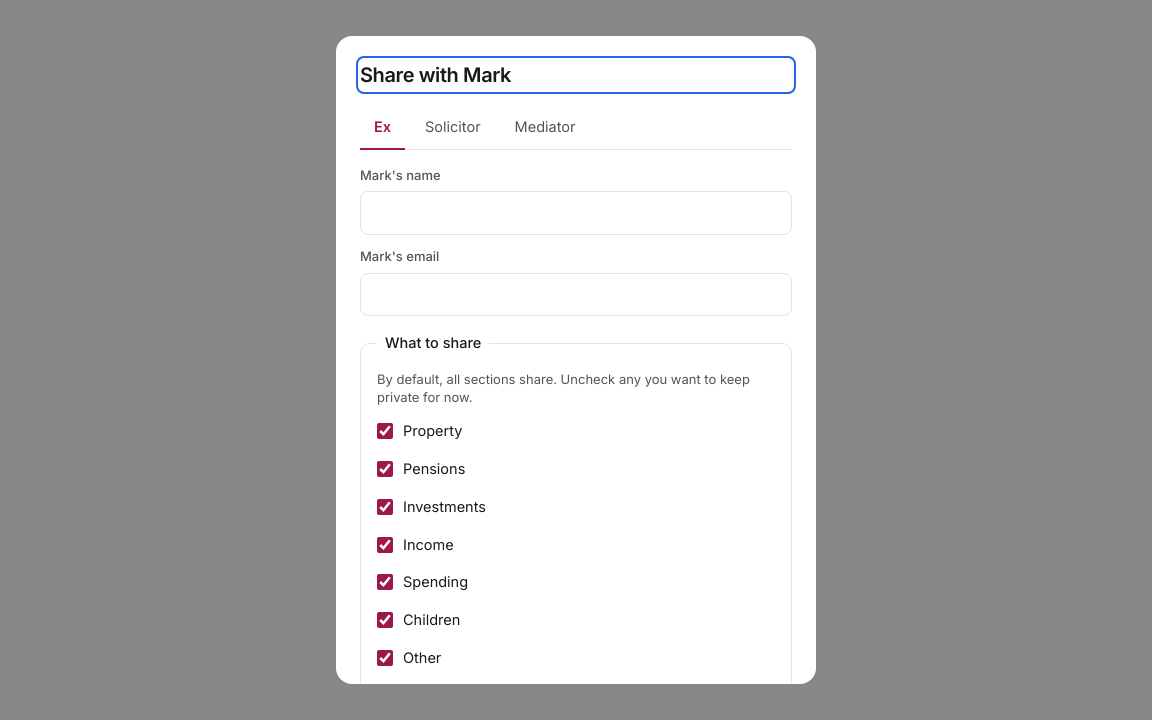
it: ShareModal › submit on Solicitor tab falls back to "Mark" (AC-5)
Click the tab "Solicitor" at (453, 128), box x1=411 y1=106 x2=495 y2=150
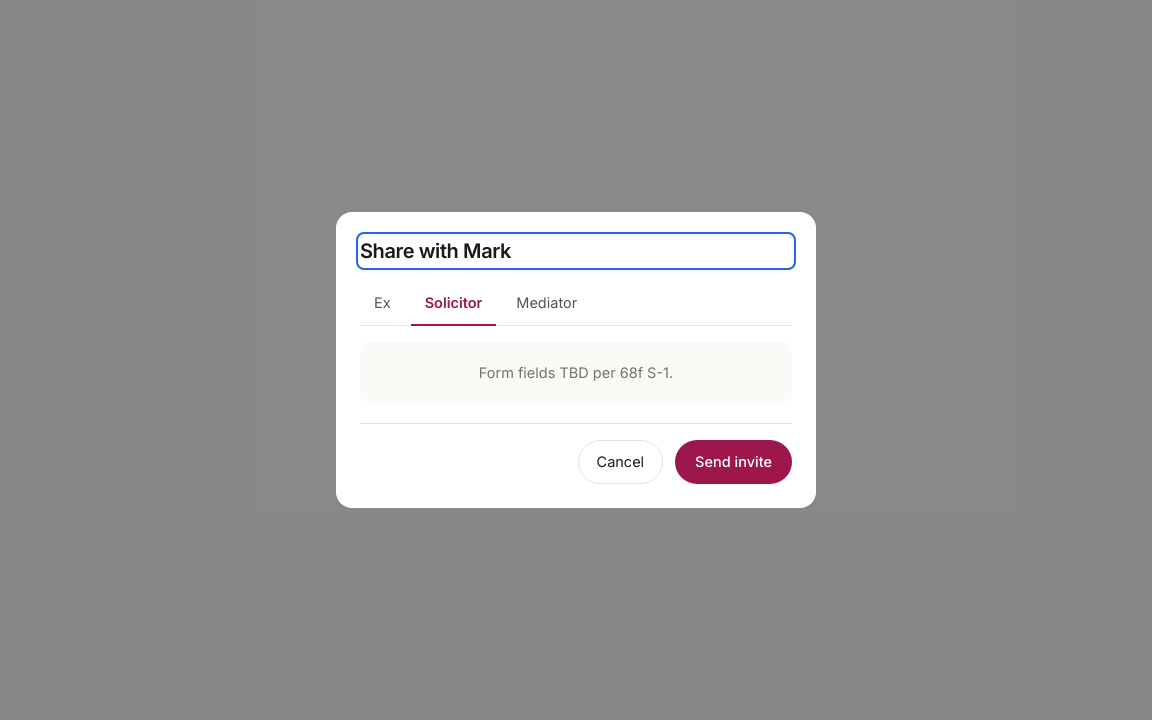
Click the button "Send invite" at (734, 462), box x1=675 y1=440 x2=792 y2=484
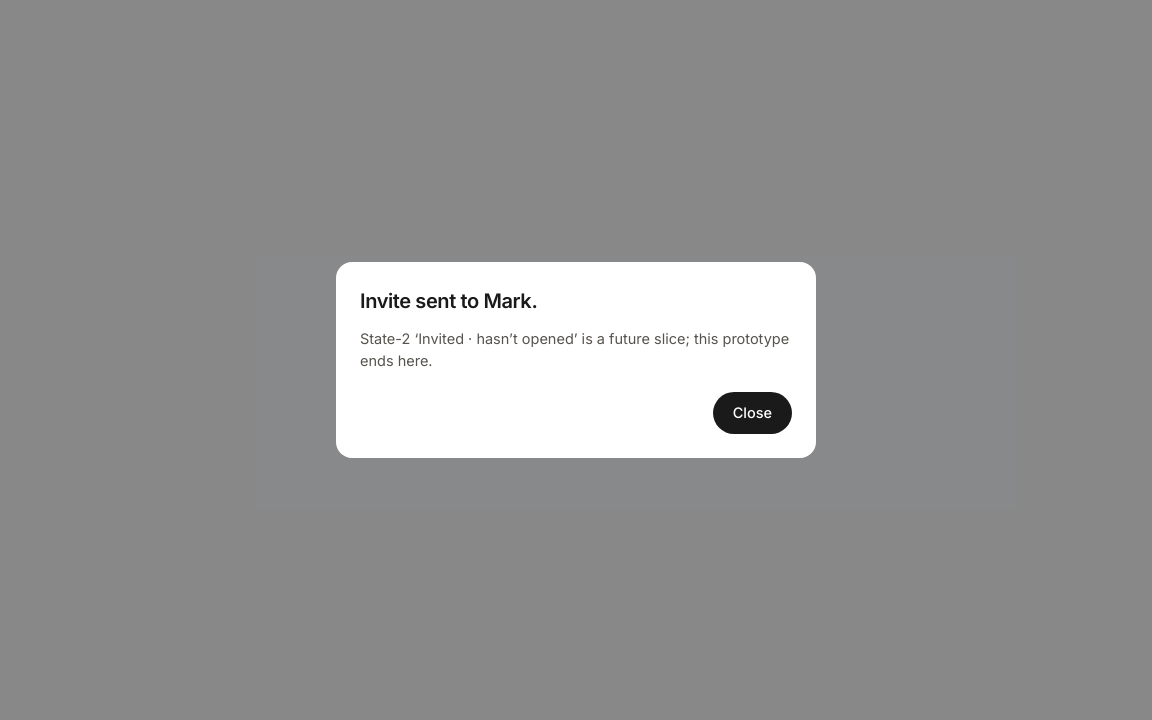
Check: the heading "Invite sent to Mark." is shown, box x1=360 y1=289 x2=537 y2=313
